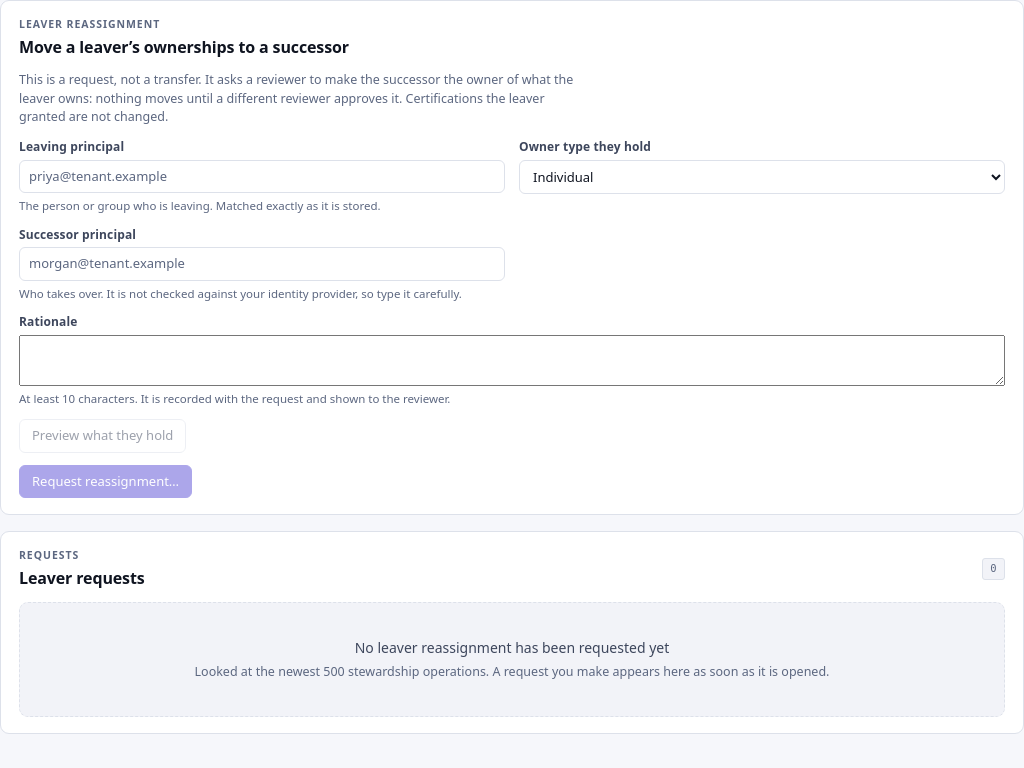
Scenario: Leaver reassignment: the preview › says so when the leaver holds nothing, and to check the spelling
expect the button "Request reassignment…" is shown: met, box [19,465,192,498]
Type "priya" into the field labelled "Leaving principal".
click(262, 177); type("priya")  # box [19,160,505,193]
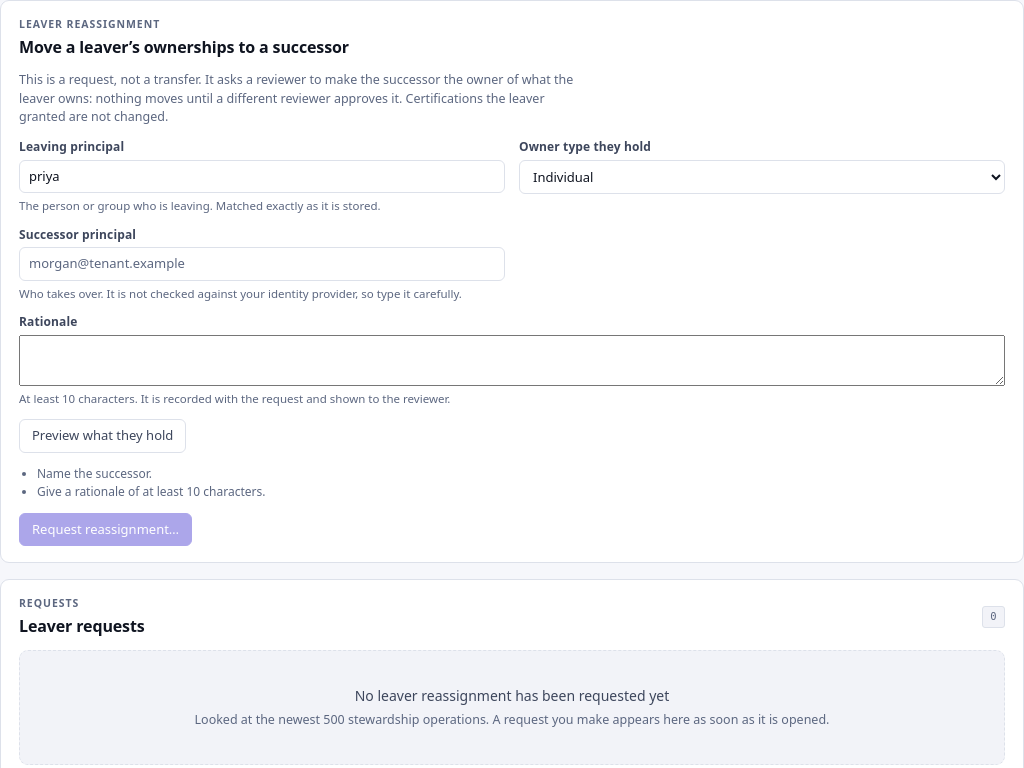
Type "morgan" into the field labelled "Successor principal".
click(262, 264); type("morgan")  # box [19,247,505,281]
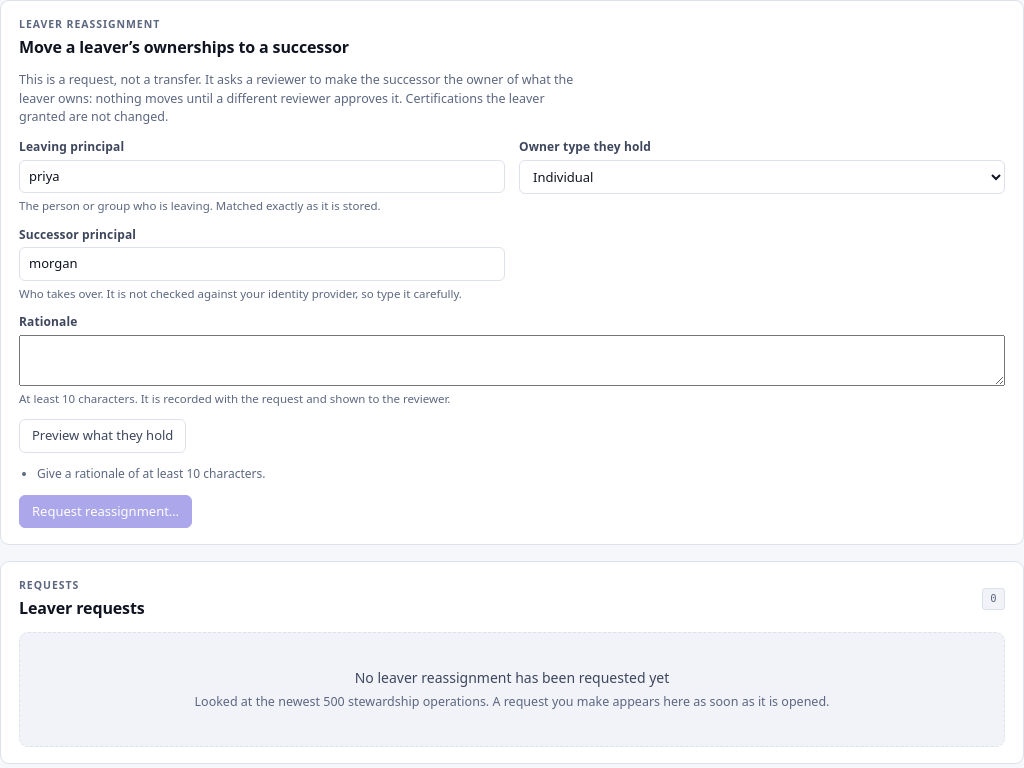
Type "Priya left the bank on 2026-09-18." into the text box labelled "Rationale".
click(512, 360); type("Priya left the bank on 2026-09-18.")  # box [19,335,1005,386]
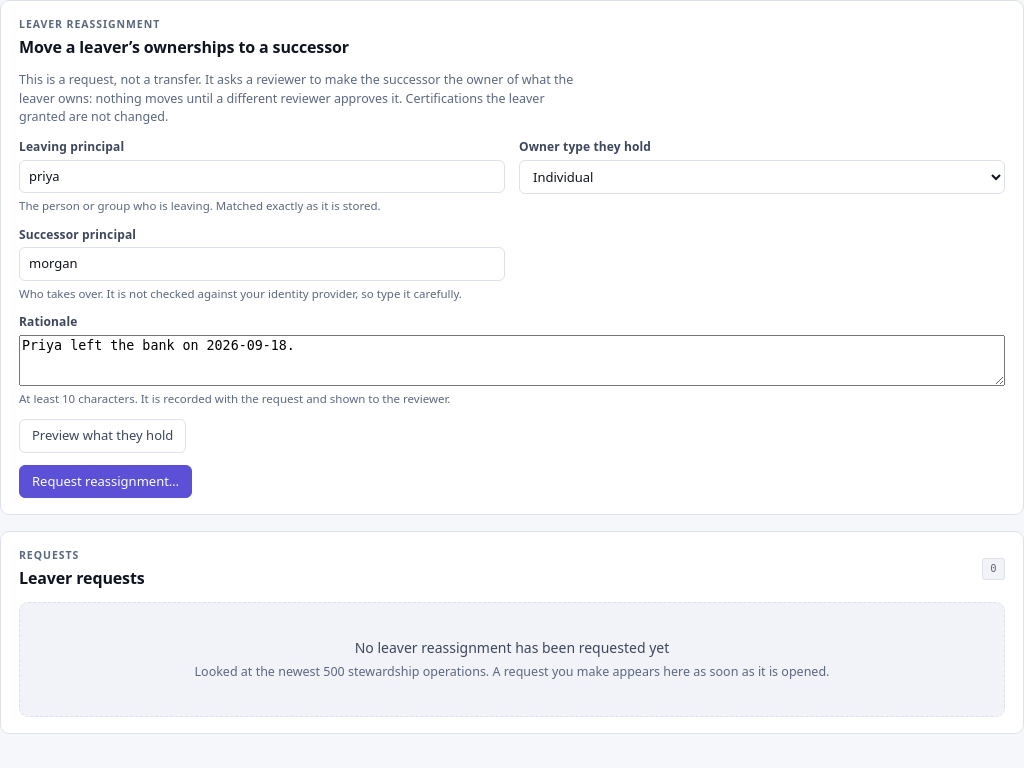
Click the button "Preview what they hold".
click(103, 436)  # box [19,419,186,453]
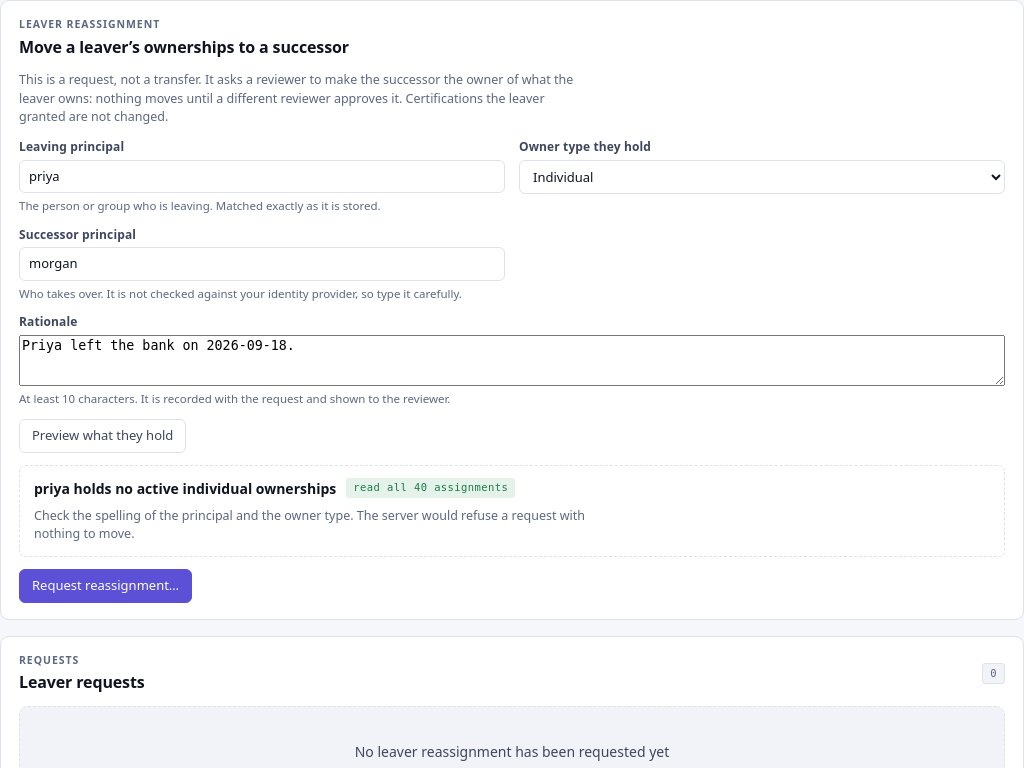
expect the element named "Preview of the leaver's ownerships" is shown: met, box [19,465,1005,557]
expect the element named "Preview of the leaver's ownerships" shows "priya holds no active individual ownerships": met, box [34,479,336,498]
expect the element named "Preview of the leaver's ownerships" shows "Check the spelling of the principal and the owner type": met, box [34,507,585,542]
